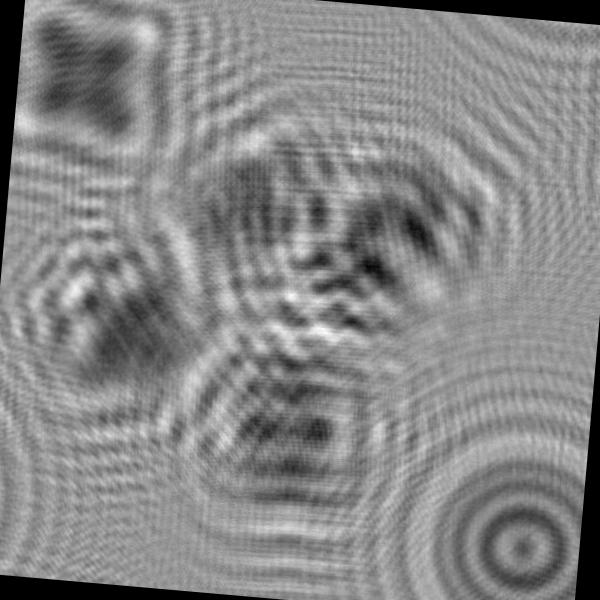H: (157, 292, 432, 576)
K: (0, 159, 234, 449)
M: (252, 96, 526, 368)
O: (393, 402, 590, 600)
T: (118, 43, 369, 330)
X: (8, 0, 200, 201)
